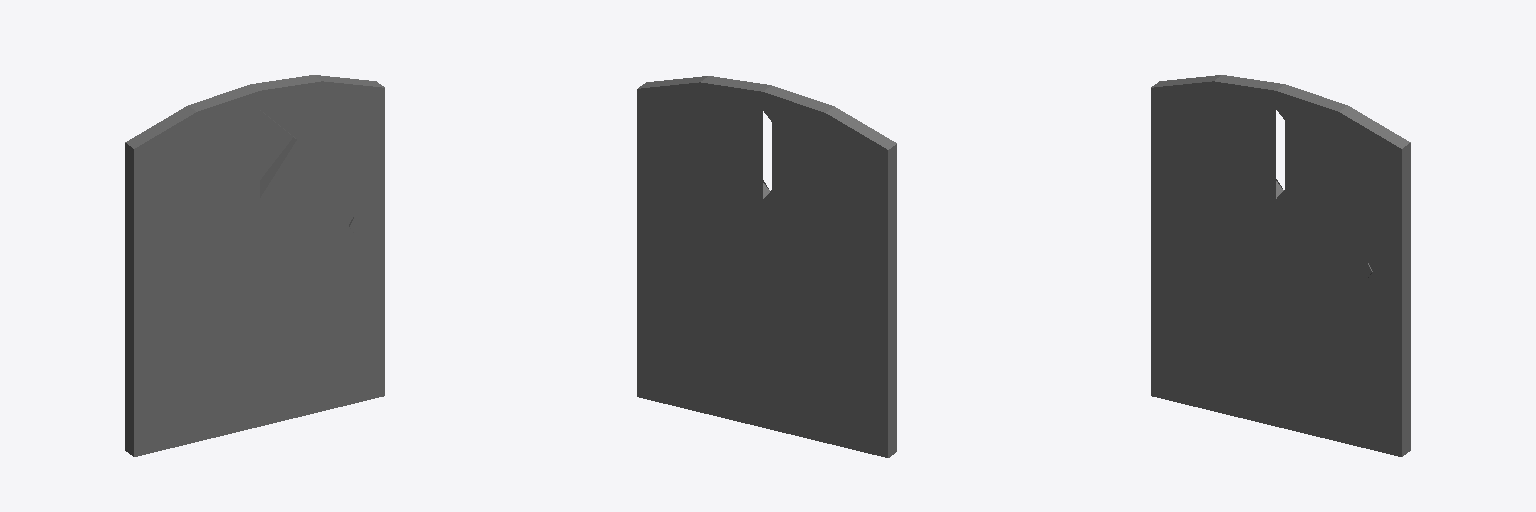
File: Door.obj
3 views of the same model, side by side, from view 1: azimuth 30°, elevation 25°; view 2: azimuth 150°, elevation 25°; view 3: azimuth 330°, elevation 25° (orthographic).
Visible parts, largest first — view 1: porta_quadrupla1; view 2: porta_quadrupla1; view 3: porta_quadrupla1.
Part boxes in pixels (left/top/right/bottom): porta_quadrupla1: left=125, top=75, right=384, bottom=456; porta_quadrupla1: left=637, top=76, right=896, bottom=457; porta_quadrupla1: left=1151, top=75, right=1410, bottom=456.
Bounding box in the file's own units: 4.15 × 5.31 × 0.2966.